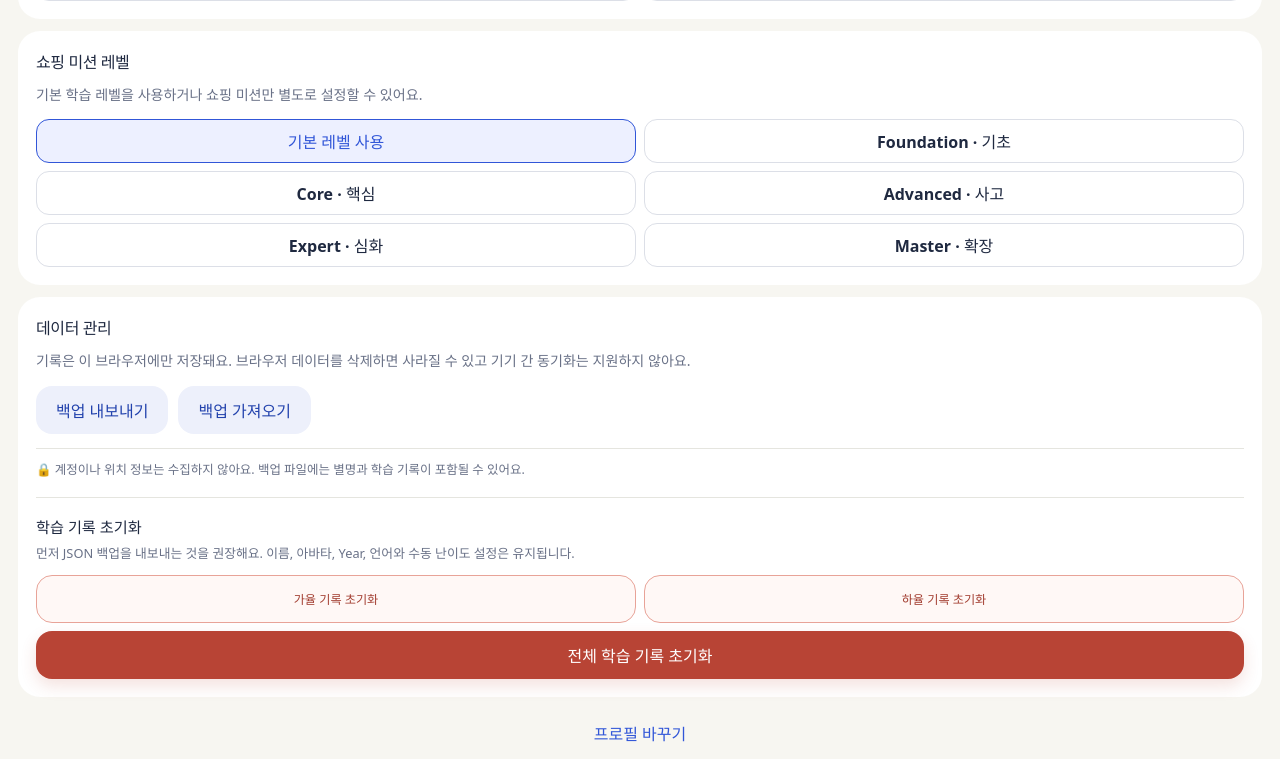
SettingsScreen learning reset › runs the confirmed reset and asks the app to refresh immediately
The width and height of the screenshot is (1280, 759).
(page scrolled)
Click the button "가율 기록 초기화".
click(336, 599)  # box [36,575,636,623]
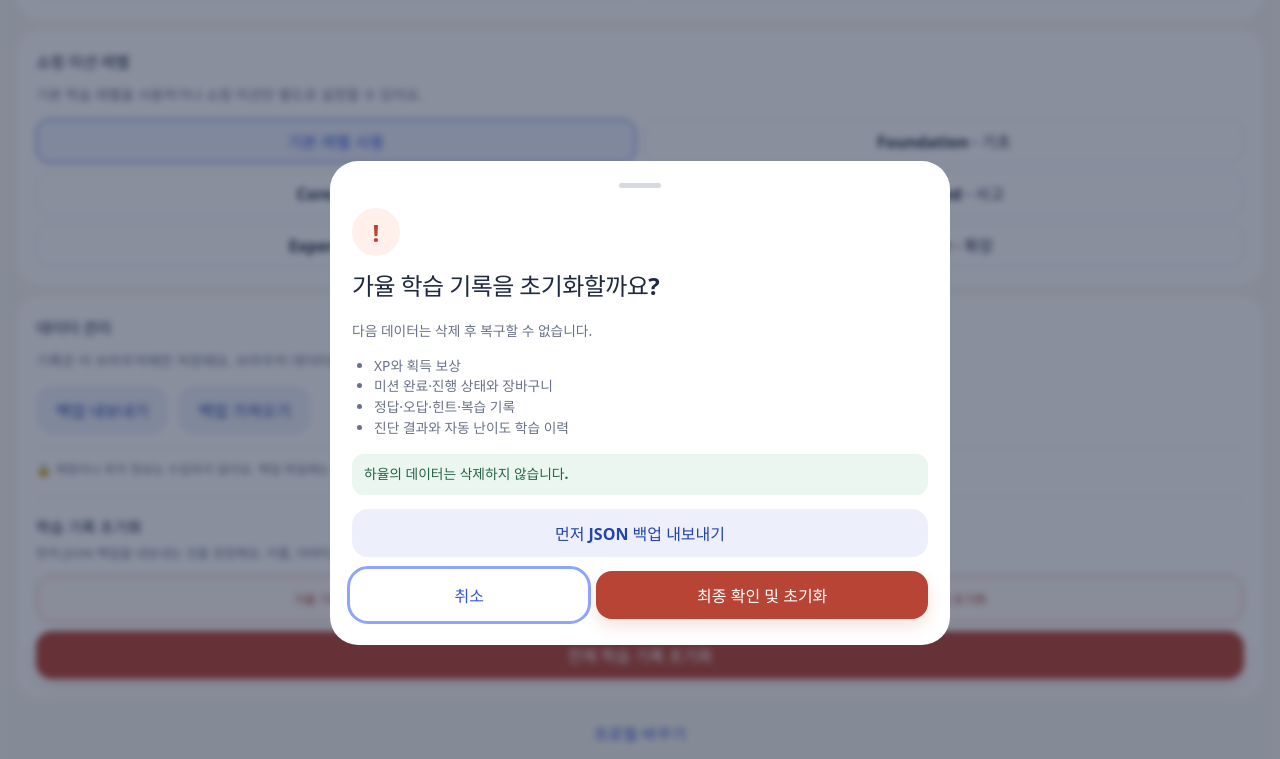
Click the button "최종 확인 및 초기화".
click(762, 595)  # box [596,571,928,619]
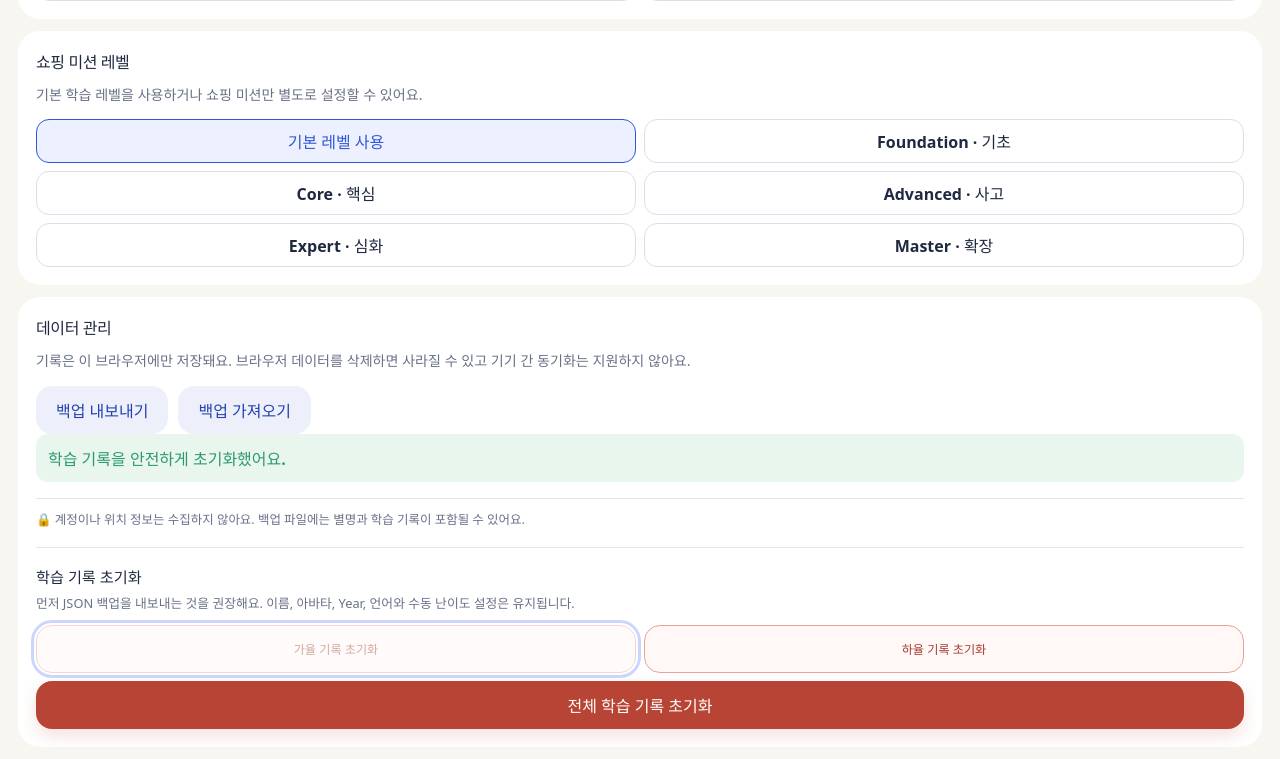
Expected: the message shows "안전하게 초기화", [48,448,286,470]
